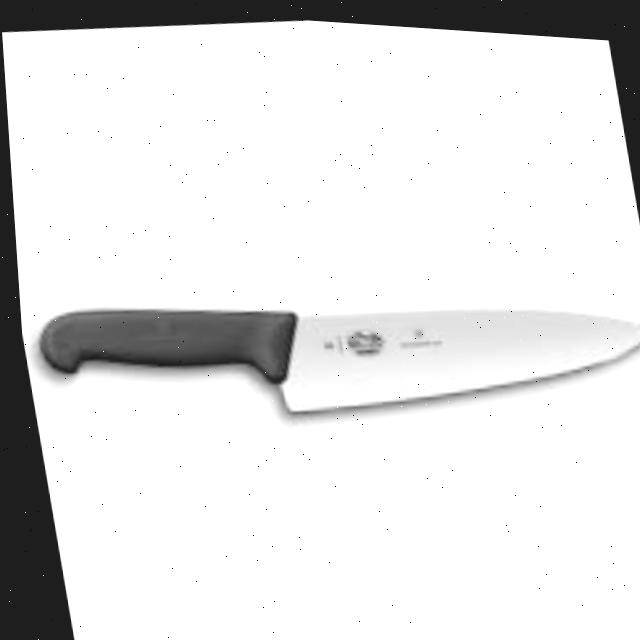knife: (25, 242, 640, 455)
